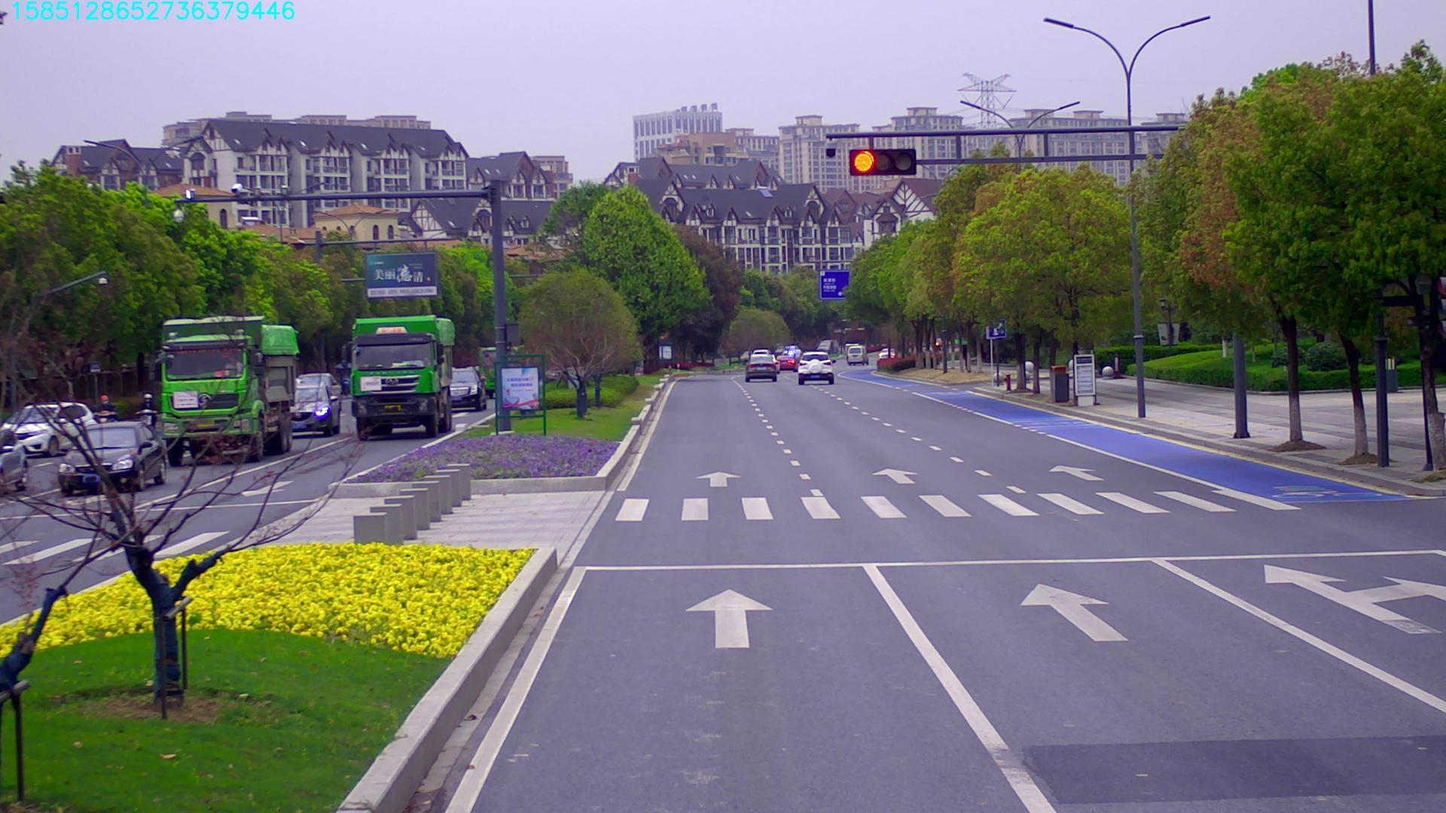red: (844, 145, 929, 179)
